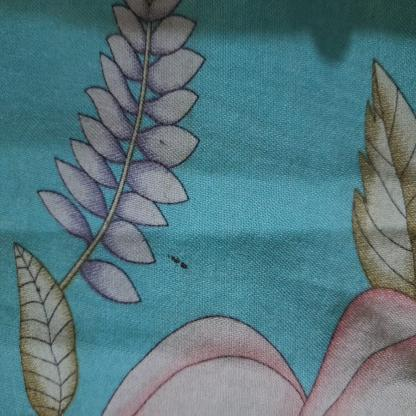spot: (166, 246, 192, 278), (183, 106, 197, 134), (35, 284, 41, 293)
